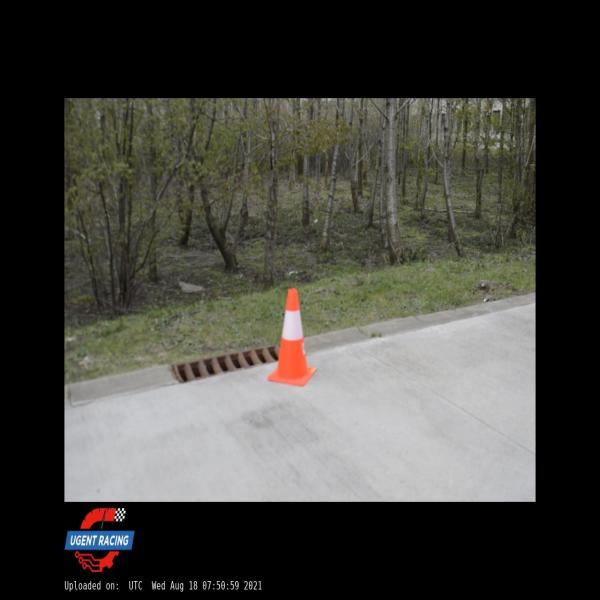orange_cone: (267, 288, 316, 386)
